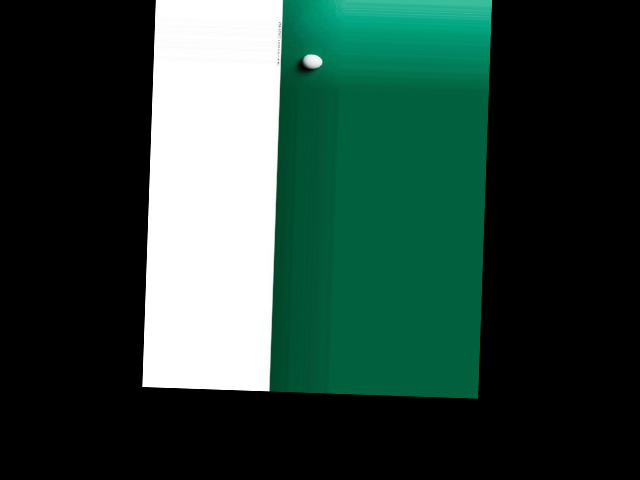egg: (301, 53, 322, 68)
